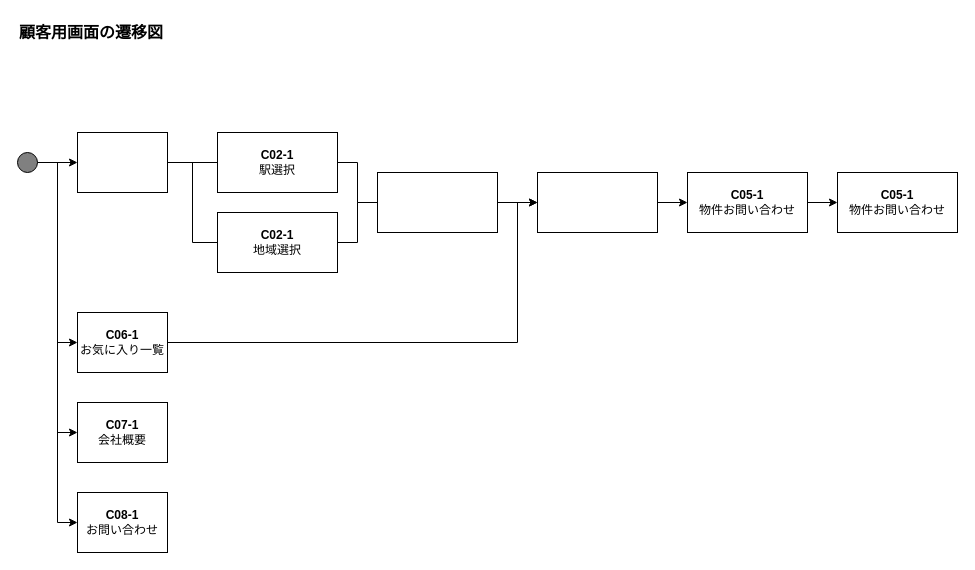
Some shapes in this 975 by 570 pixel diagram are drawn without their labels. The shapes that lost their labels are listed below. From the top down, each one's centre as x and y in pixels, then its label:
At pixel 122 162: "C01-1 検索方法選択".
At pixel 437 202: "C03-1 検索結果 （フィルター追加）".
At pixel 597 202: "C04-1 物件詳細 （お気に入り追加・お問い合わせ）".
